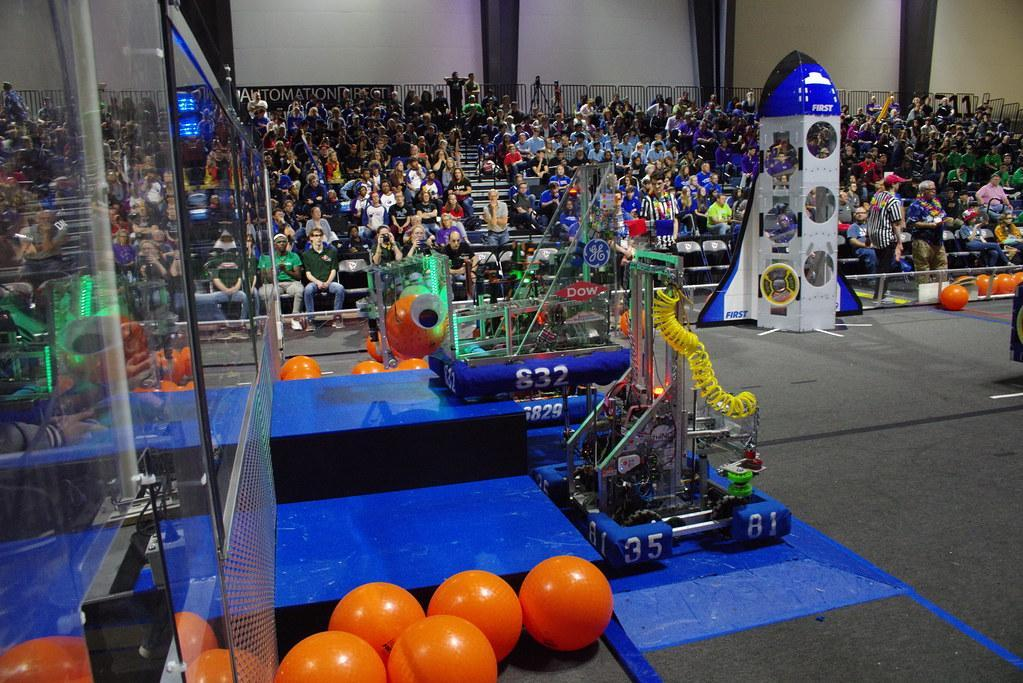robot: (526, 245, 800, 574), (424, 231, 636, 408)
